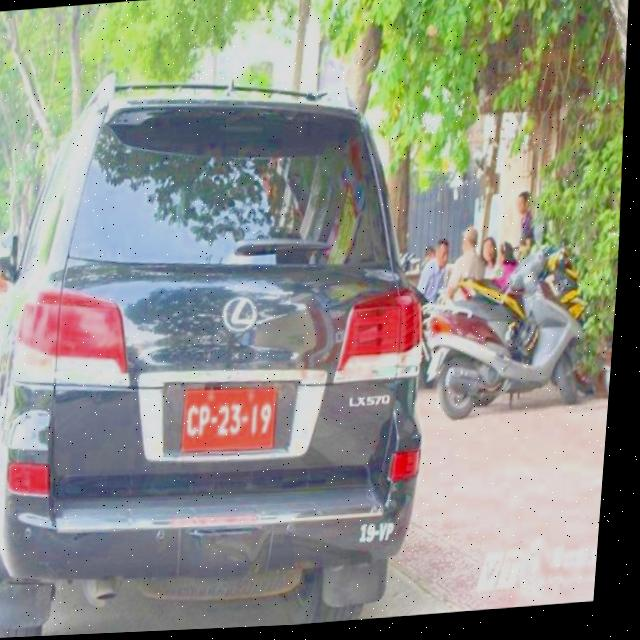car: (0, 43, 465, 640)
plate: (162, 373, 288, 461)
